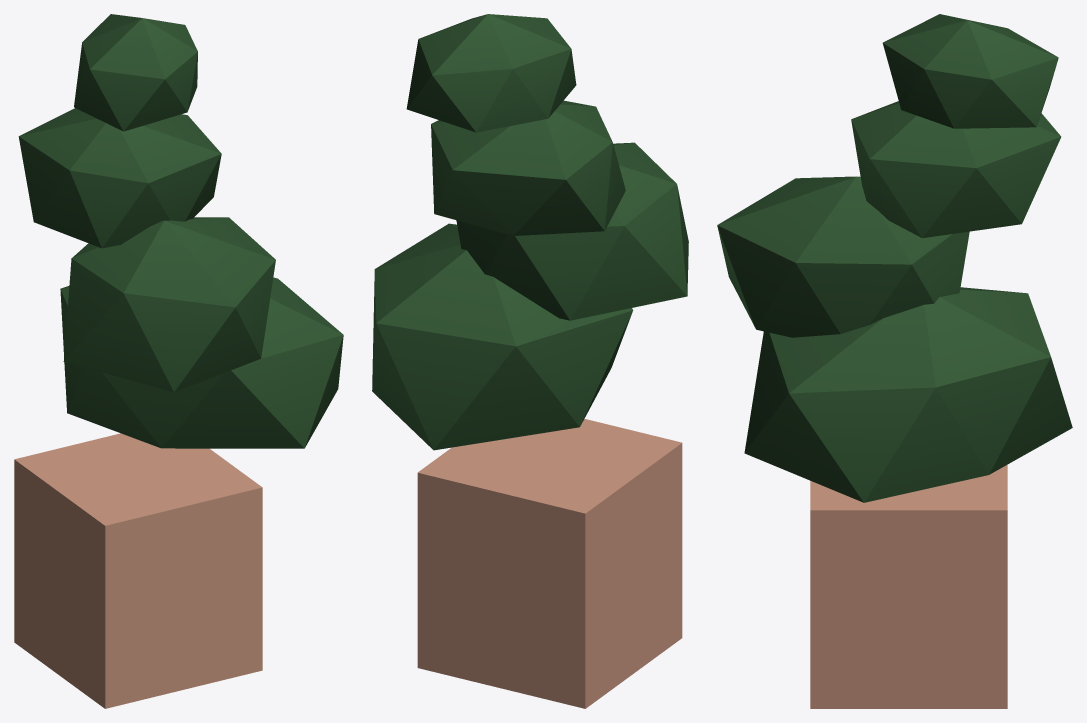
Rendered from planta_vaso.glb.
3 views of the same model, side by side, from view 1: azimuth 30°, elevation 25°; view 2: azimuth 150°, elevation 25°; view 3: azimuth 270°, elevation 25° (orthographic). The views are drawn at different scales.
Visible parts, largest first — view 1: Malha_0; view 2: Malha_0; view 3: Malha_0.
Boxes of the visible parts, x1,y1,x2,y2 form: Malha_0: (14,14,343,708); Malha_0: (372,14,688,708); Malha_0: (717,14,1072,708).
Size of the model in its own units: 0.6423 by 1.34 by 0.6486.
